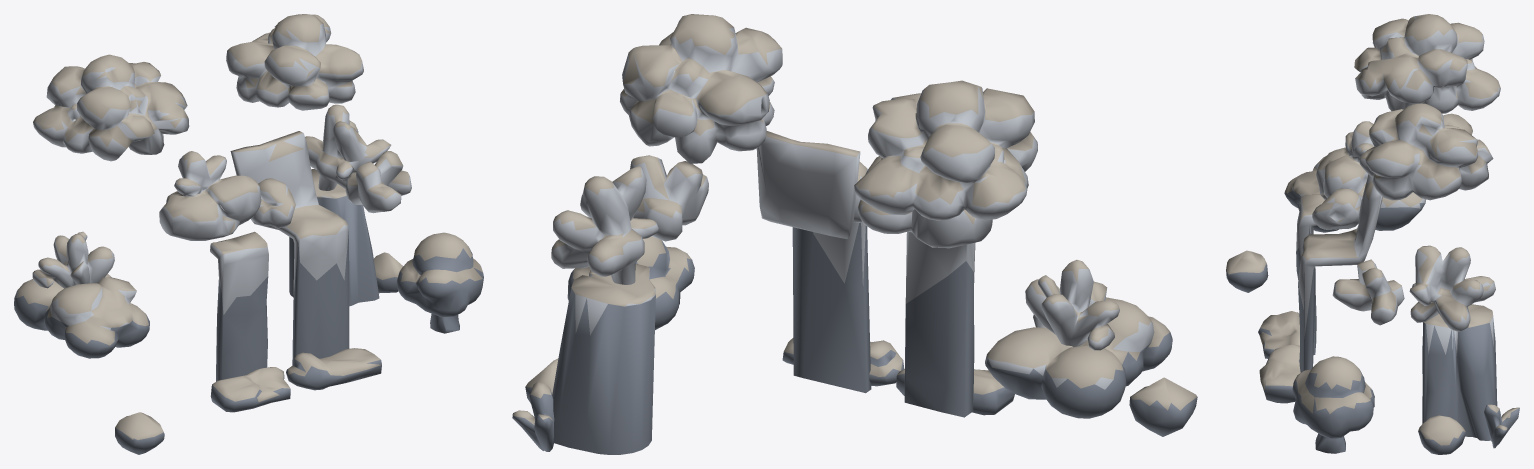
File: SM_bob_map_cliff_waterfall.fbx
3 views of the same model, side by side, from view 1: azimuth 30°, elevation 25°; view 2: azimuth 150°, elevation 25°; view 3: azimuth 270°, elevation 25° (orthographic). The views are drawn at different scales.
Parts seen in each view (by area): view 1: SM_bob_map_cliff_waterfall; view 2: SM_bob_map_cliff_waterfall; view 3: SM_bob_map_cliff_waterfall.
Part boxes in pixels (x1,y1,x2,y2): SM_bob_map_cliff_waterfall: (14,14,483,454); SM_bob_map_cliff_waterfall: (512,14,1197,454); SM_bob_map_cliff_waterfall: (1226,14,1519,454).
Bounding box in the file's own units: 718 × 500 × 436.
1 material, 1 textured.
